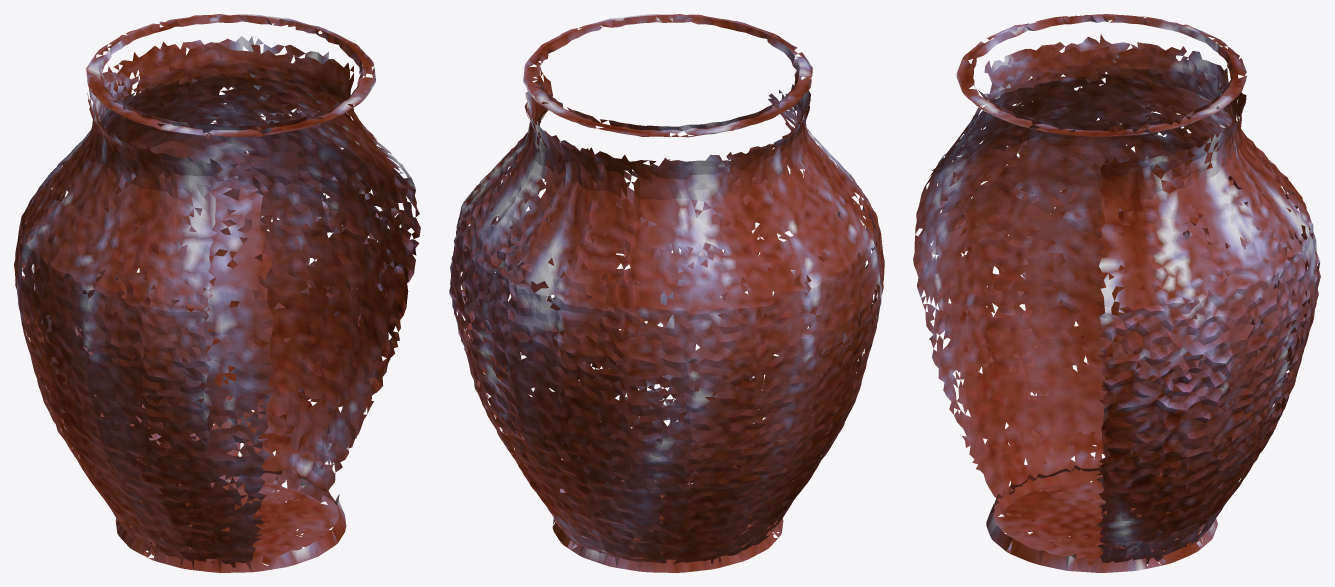
File: vase2_final200.obj
3 views of the same model, side by side, from view 1: azimuth 30°, elevation 25°; view 2: azimuth 150°, elevation 25°; view 3: azimuth 270°, elevation 25° (orthographic).
Size of the model in its own units: 1.46 by 1.7 by 1.37.
